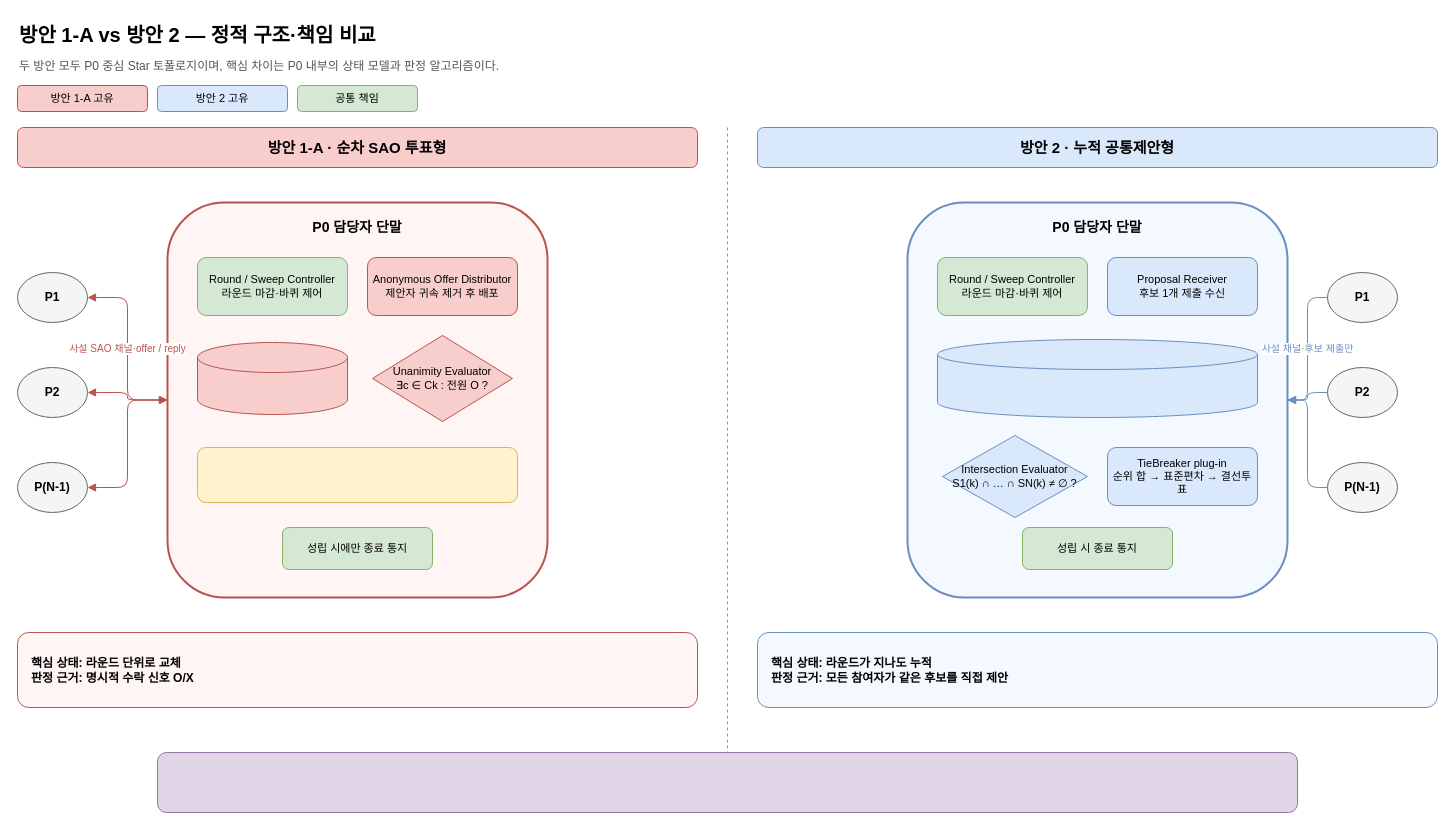
Some shapes in this 1455 by 830 pixel diagram are drawn without their labels. Here are the shapes that lost their labels. From the top down, the box of each, then its label:
(196, 342, 348, 414): Current Round State 현재 후보 목록 + O/X 행렬
(936, 338, 1258, 418): Blackboard State (P0 내부) Si(k): 참여자별 누적 제안 + 제출 라운드
(196, 446, 518, 502): TieBreaker plug-in 순위 정보 없음 → 결선투표
(156, 752, 1298, 812): Architect 포인트 │ 외부 배치 모양은 유사하다. 1-A는 현재 후보의 수락 신호를 집계하고, 2는 누적 제안 집합의 교집합을 계산한다.
